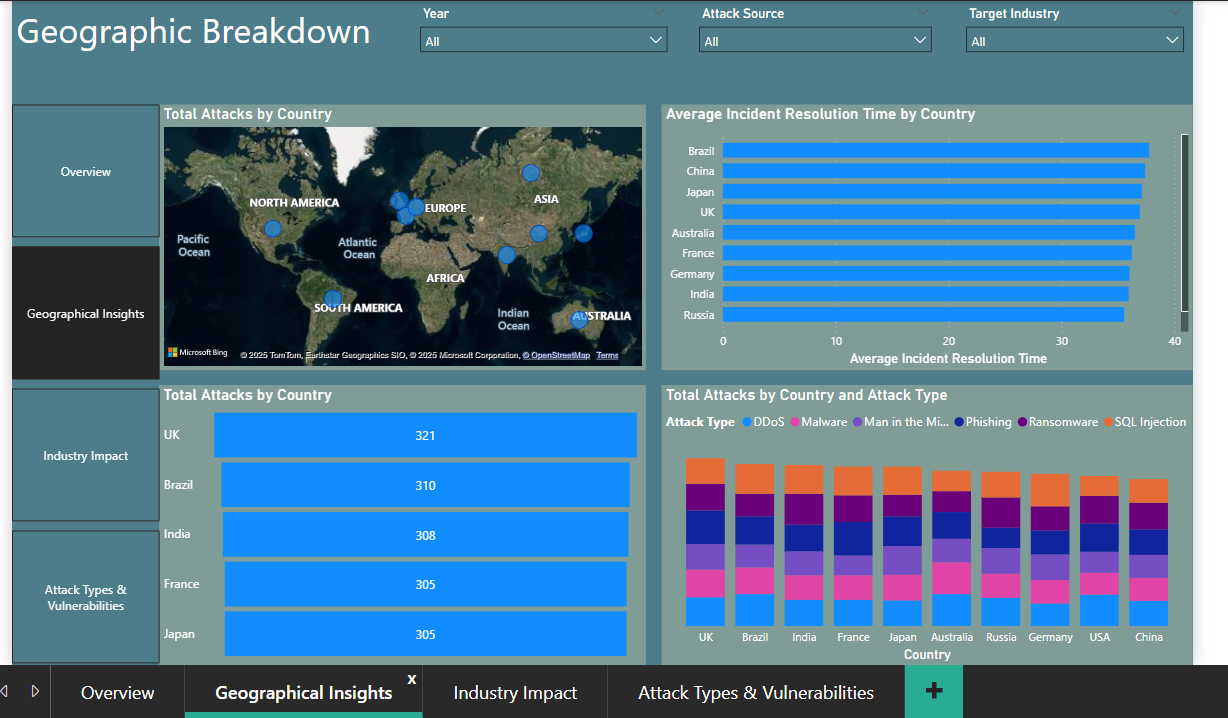

What the dashboard file says about the page in this screenshot:
{"tool":"powerbi","page":{"name":" Geographical Insights","canvas":[1280,720],"ordinal":1},"visuals":[{"type":"map","fields":{"Size":["Cyber Security.Total Attacks"],"Category":["Cyber Security.Country"]},"box":[160,112,528,288],"z":0},{"type":"funnel","fields":{"Category":["Cyber Security.Country"],"Y":["Cyber Security.Total Attacks"]},"box":[160,416,528,304],"z":1000},{"type":"clusteredBarChart","fields":{"Category":["Cyber Security.Country"],"Y":["Cyber Security.Average Incident Resolution Time"]},"box":[704,112,576,288],"z":2000},{"type":"columnChart","fields":{"Category":["Cyber Security.Country"],"Series":["Cyber Security.Attack Type"],"Y":["Cyber Security.Total Attacks"]},"box":[704,416,576,304],"z":3000},{"type":"pageNavigator","box":[0,112,160,608],"z":4000},{"type":"slicer","fields":{"Values":["Cyber Security.Year"]},"box":[432,0,288,96],"z":5000},{"type":"slicer","fields":{"Values":["Cyber Security.Attack Source"]},"box":[736,0,272,96],"z":6000},{"type":"slicer","fields":{"Values":["Cyber Security.Target Industry"]},"box":[1024,0,256,96],"z":7000},{"type":"textbox","box":[0,0,400,96],"z":8000}]}

Visuals, with their boxes on the page's 1280x720 design canvas (x1, y1, x2, y2). These are canvas units, not pixel positions in the 1228x718 screenshot, which may show the page scaled, cropped or inside an application window:
map - Cyber Security.Total Attacks x Cyber Security.Country: rect(160, 112, 688, 400)
funnel - Cyber Security.Country x Cyber Security.Total Attacks: rect(160, 416, 688, 720)
clusteredBarChart - Cyber Security.Country x Cyber Security.Average Incident Resolution Time: rect(704, 112, 1280, 400)
columnChart - Cyber Security.Country x Cyber Security.Attack Type: rect(704, 416, 1280, 720)
pageNavigator: rect(0, 112, 160, 720)
slicer - Cyber Security.Year: rect(432, 0, 720, 96)
slicer - Cyber Security.Attack Source: rect(736, 0, 1008, 96)
slicer - Cyber Security.Target Industry: rect(1024, 0, 1280, 96)
textbox: rect(0, 0, 400, 96)
